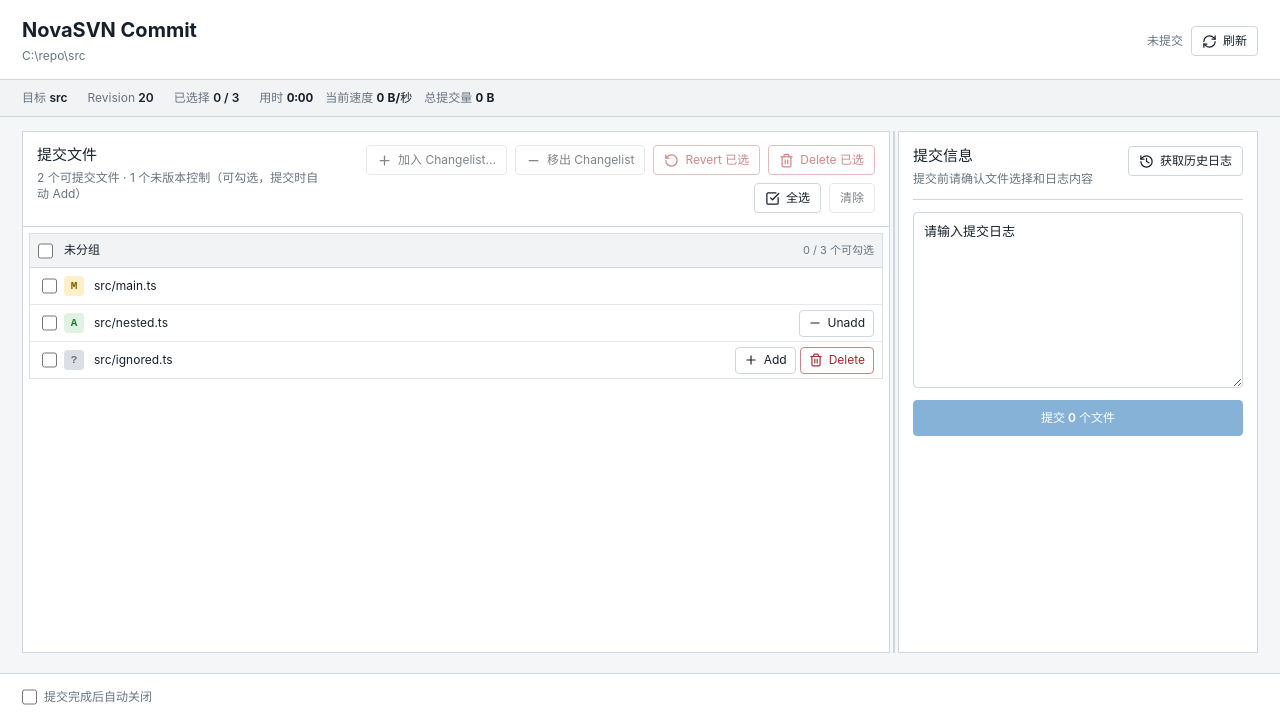
Test: StandaloneCommitWindow › 只显示右键目录范围内的可提交文件，打开时不自动勾选
Expected: the text "src/main.ts" is shown, [94,278,157,293]
Expected: the text "src/nested.ts" is shown, [94,315,168,330]
Click the checkbox named "src/main.ts" at coordinates (50, 286), box [42,271,57,301]
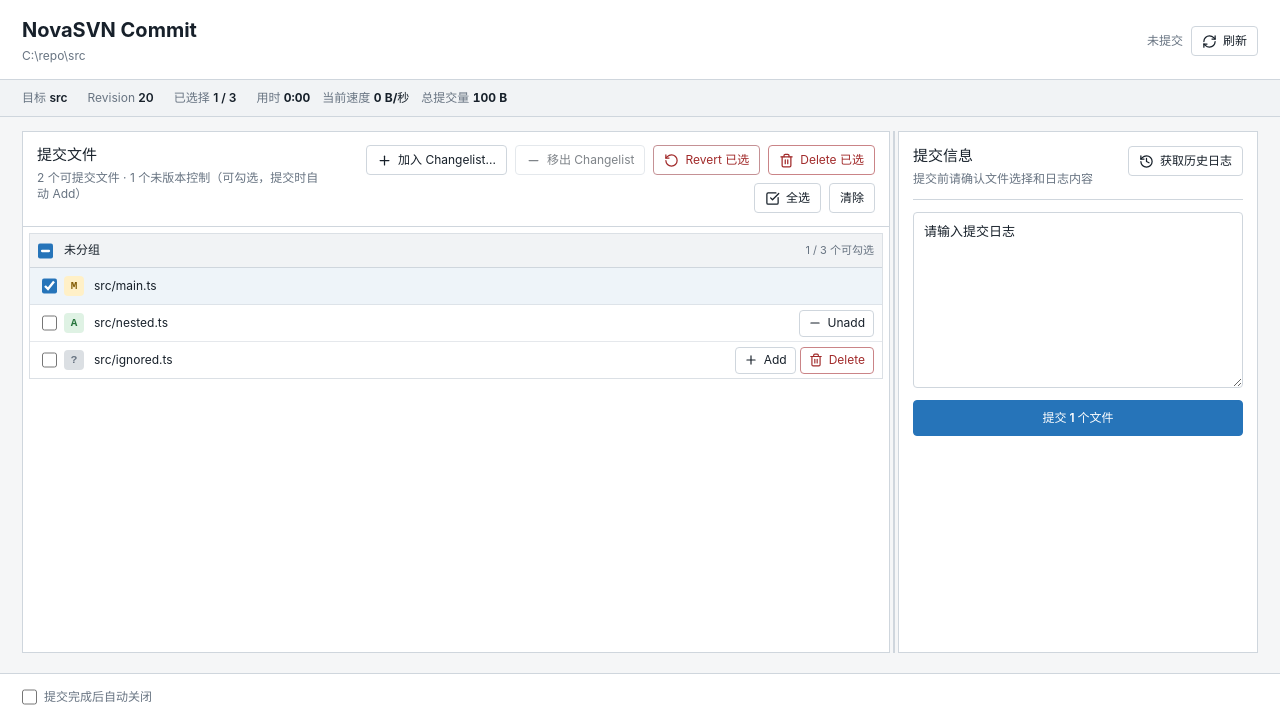
Now the checkbox named "src/main.ts" is checked, box [42,271,57,301]
Now the element named "操作指标" shows "总提交量 100 B", box [256,90,507,106]
